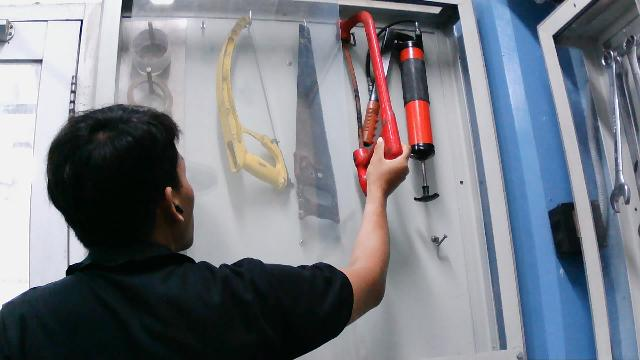gergaji_besi: (333, 9, 411, 201)
